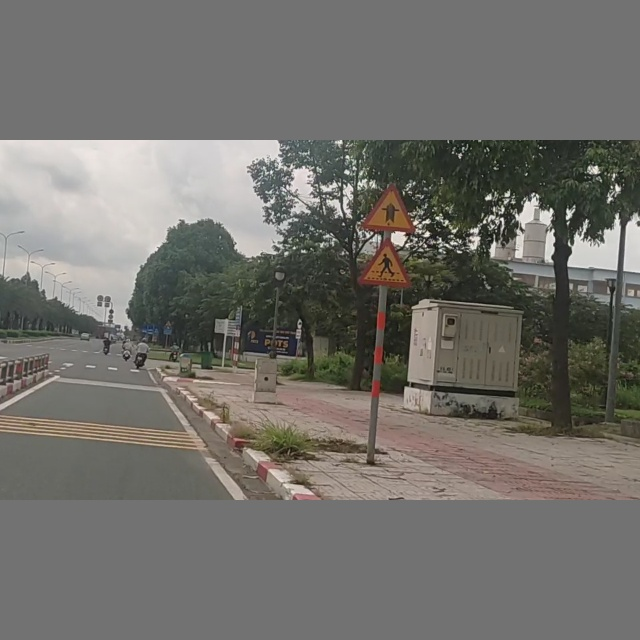W.207: (361, 181, 417, 233)
W.224: (357, 237, 411, 287)
